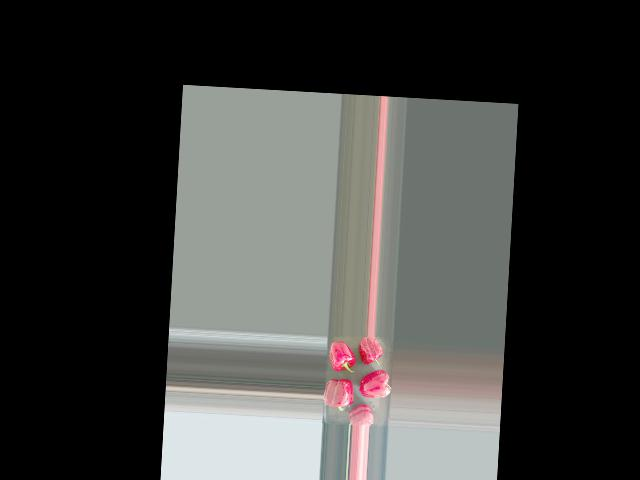bell_pepper: (347, 402, 379, 426)
